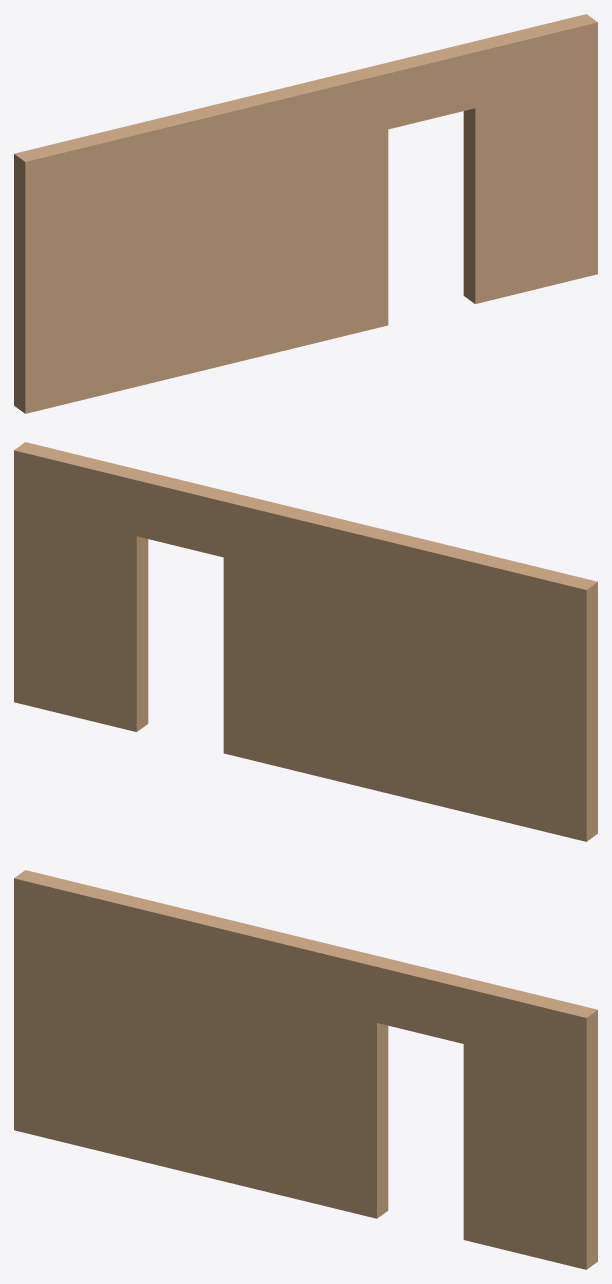
The model's file is Wall 4.FBX.
The picture shows the model from 3 angles, top to bottom: view 1: azimuth 30°, elevation 25°; view 2: azimuth 150°, elevation 25°; view 3: azimuth 330°, elevation 25°; orthographic projection.
Visible parts, largest first — view 1: Wall 4; view 2: Wall 4; view 3: Wall 4.
Part boxes in pixels (x1=…): Wall 4: x1=14, y1=14, x2=597, y2=413; Wall 4: x1=14, y1=442, x2=597, y2=841; Wall 4: x1=14, y1=870, x2=597, y2=1269.
Bounding box in the file's own units: 622 × 261 × 21.44.
